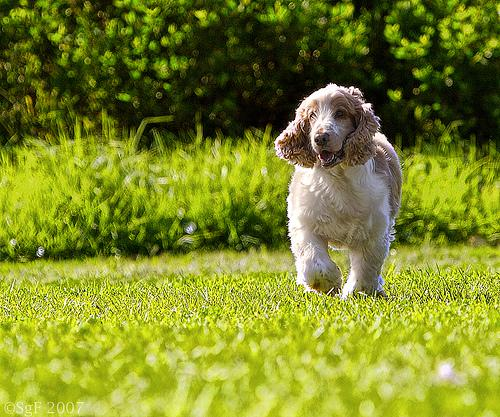dog-english_cocker_spaniel: (273, 82, 377, 167)
